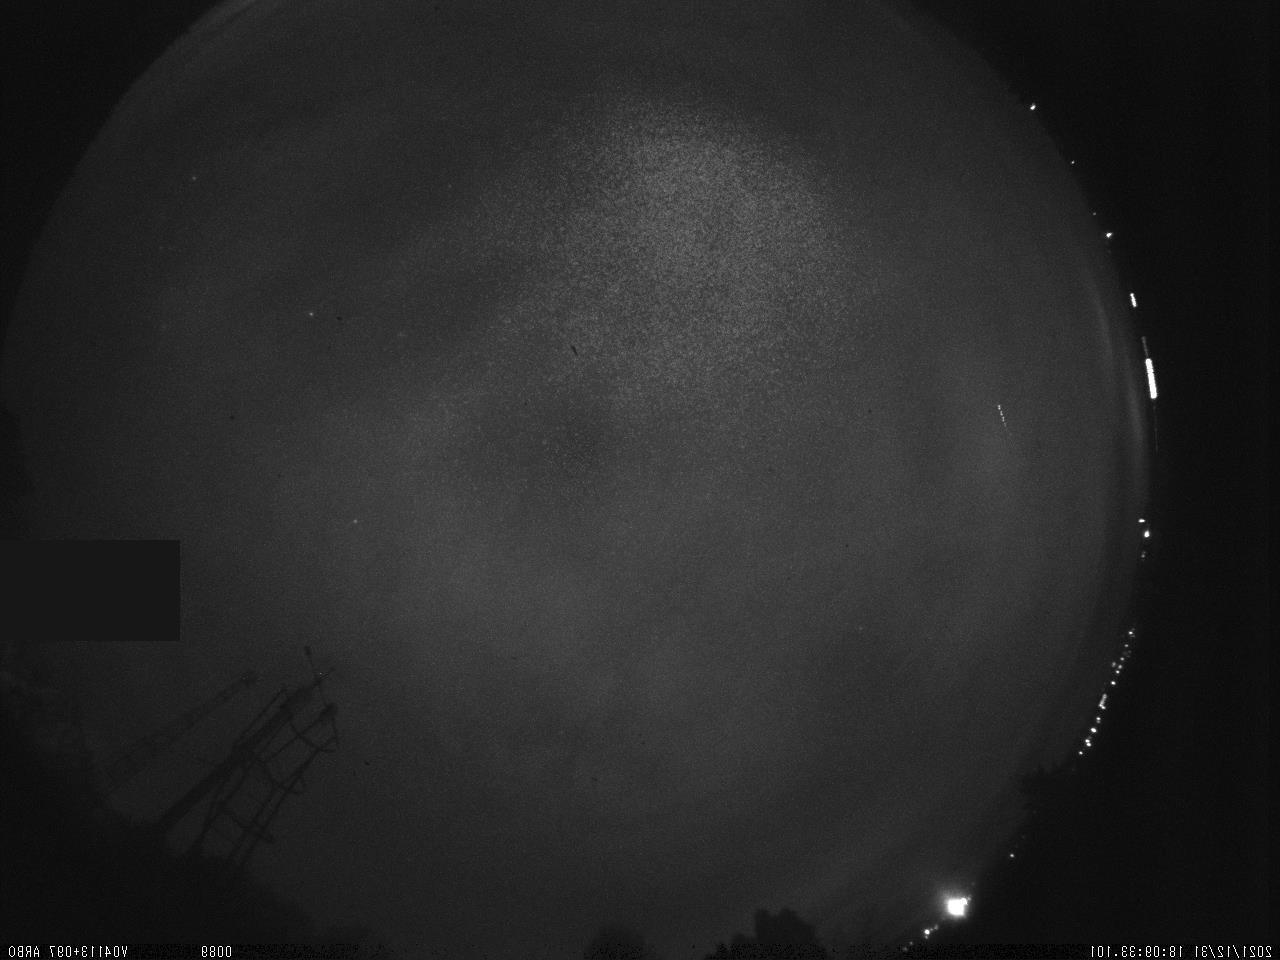meteor: (974, 398, 1033, 440)
